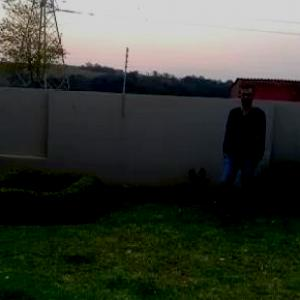follow: (214, 91, 264, 204)
